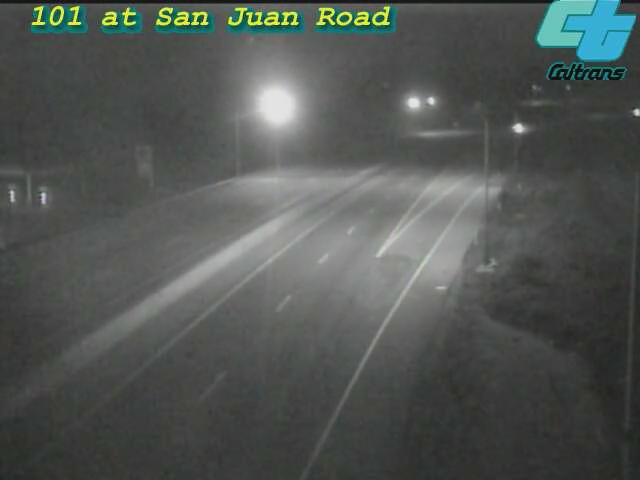vehicle: (490, 104, 540, 154), (613, 85, 640, 135)
